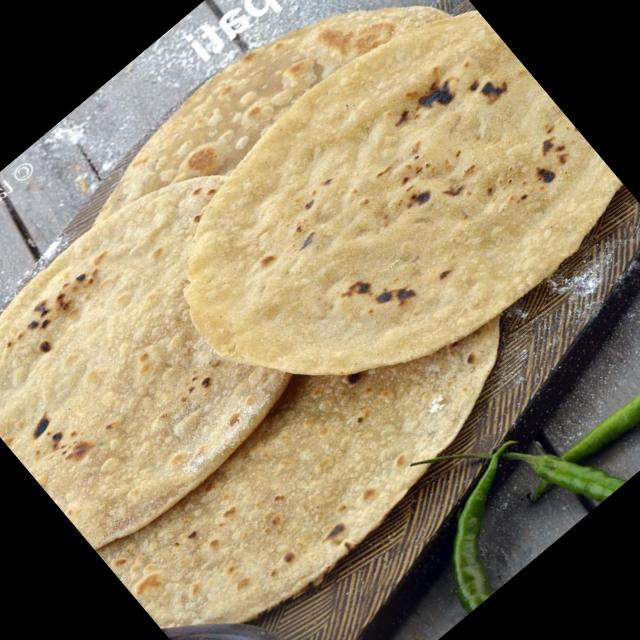roti: (190, 9, 621, 371), (92, 320, 499, 627), (0, 175, 288, 547), (89, 3, 453, 232)
